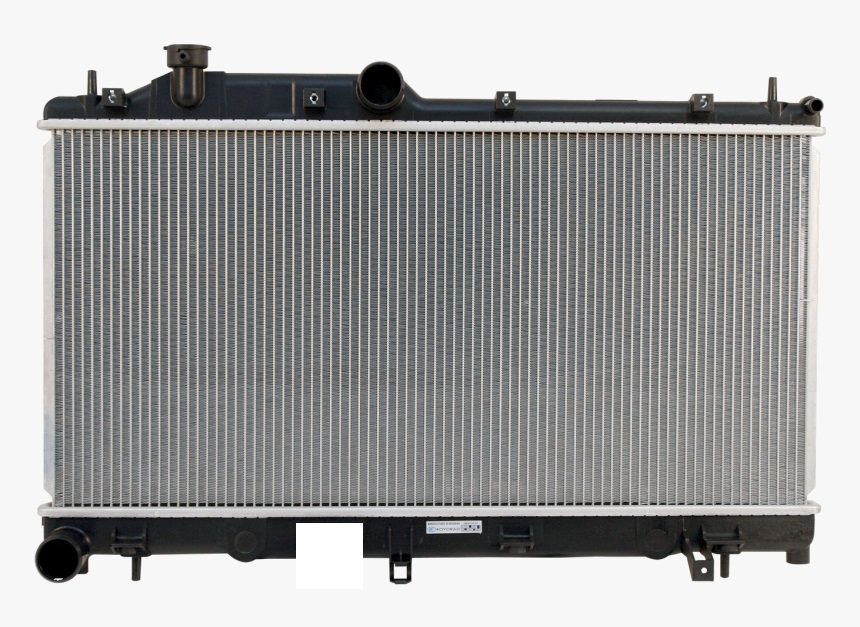c1: (87, 68, 127, 114)
c10: (231, 528, 261, 556)
c12: (387, 524, 415, 585)
c13: (496, 523, 535, 556)
c14: (680, 527, 746, 582)
c2: (163, 43, 212, 108)
c3: (301, 85, 326, 110)
c4: (356, 60, 408, 112)
c5: (494, 90, 518, 112)
c6: (691, 92, 716, 113)
c7: (767, 75, 824, 123)
c8: (31, 531, 90, 585)
c9: (109, 526, 148, 581)
